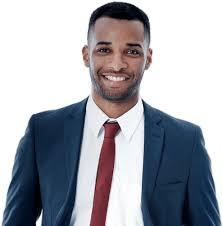Persons: (78, 1, 158, 109)
